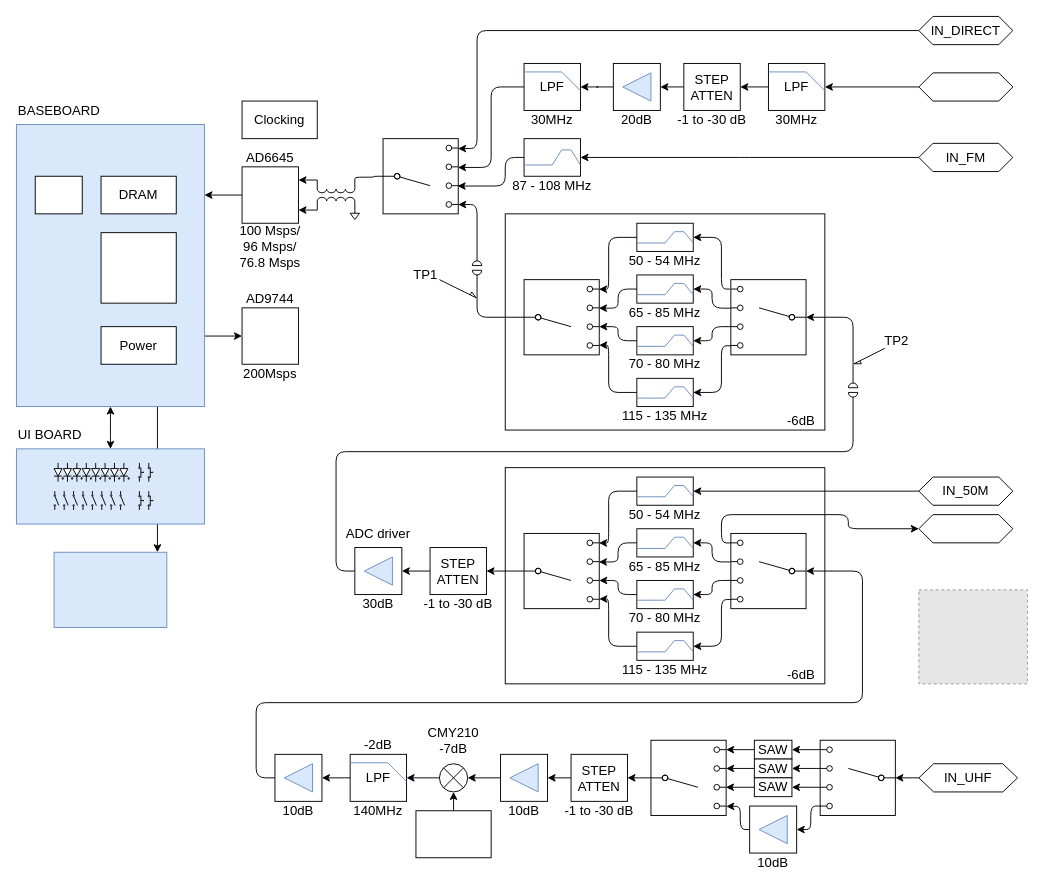
Some shapes in this 1044 by 888 pixel diagram are drawn without their labels. Grey dashed boxes stand in for pictures. The centre of each missing label's shape, as x and y in pixels:
ADC: the point at 269,194
ADF4350: the point at 453,834
DAC: the point at 269,335
FPGA (Zynq/Artix): the point at 138,267
IN_HF: the point at 965,86
LCD: the point at 110,589
OUT_IF: the point at 965,528
USB: the point at 58,194
